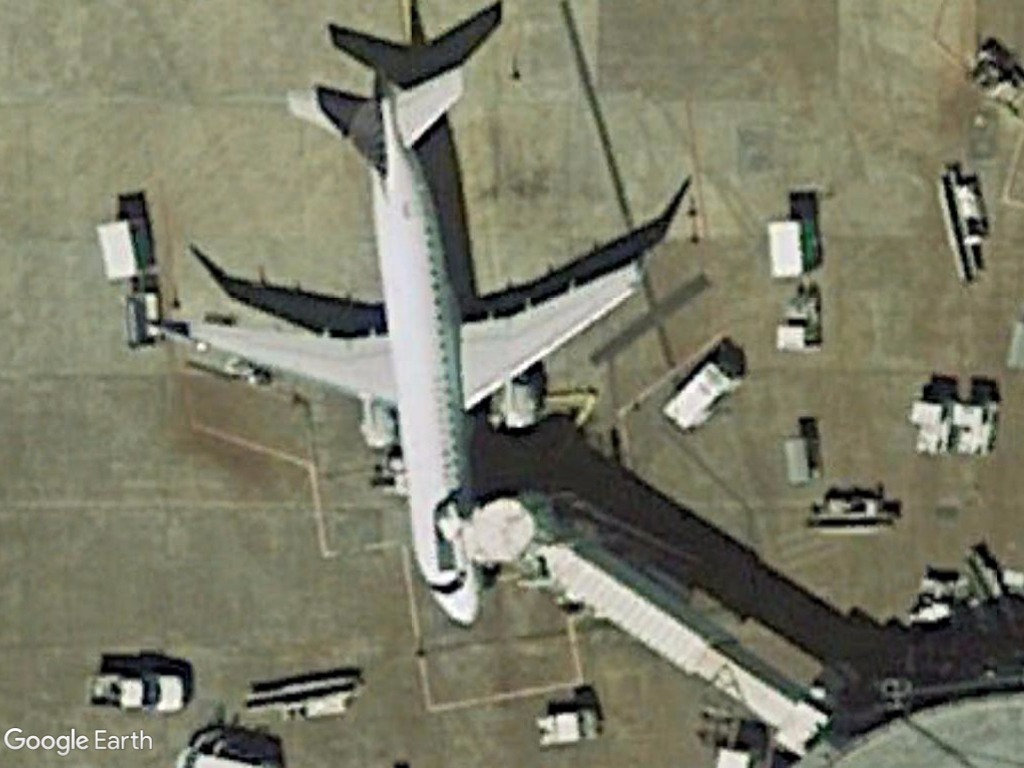airliner: (172, 69, 659, 634)
other: (80, 666, 190, 719)
